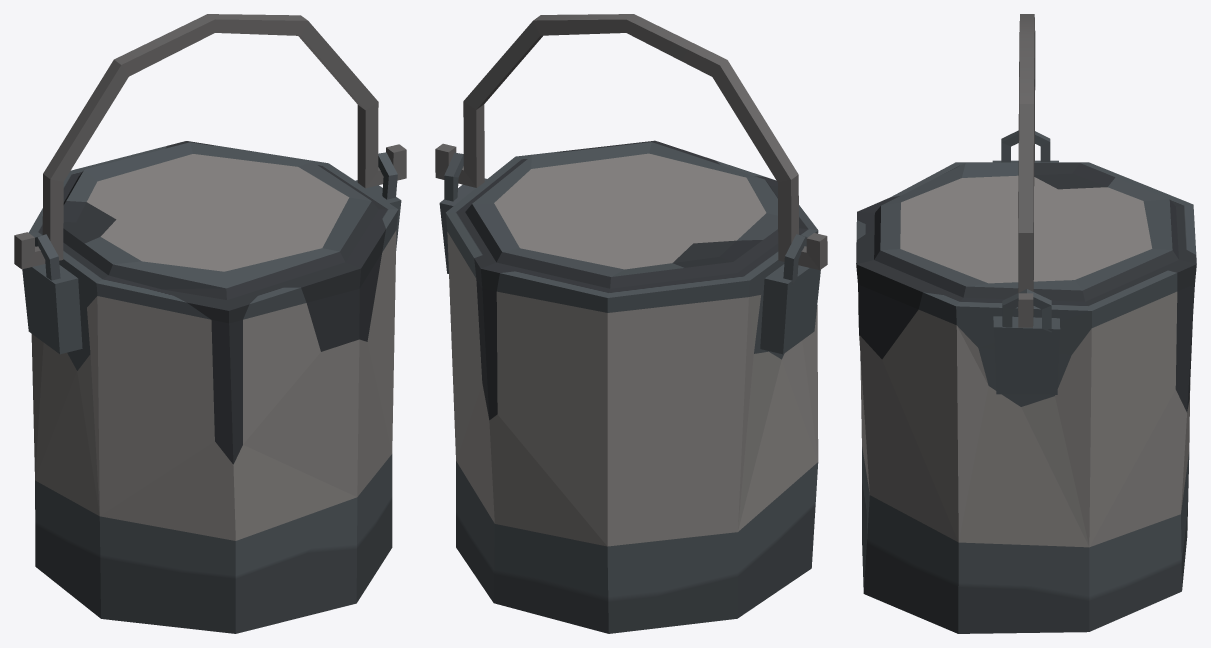
The model's file is SM_Prop_Paint_Can_Closed_Black_01.glb.
3 views of the same model, side by side, from view 1: azimuth 30°, elevation 25°; view 2: azimuth 150°, elevation 25°; view 3: azimuth 270°, elevation 25° (orthographic). The views are drawn at different scales.
Parts seen in each view (by area): view 1: SM_Prop_Paint_Can_Closed_Black_01, SM_Prop_Paint_Can_Closed_Black_01_Handle; view 2: SM_Prop_Paint_Can_Closed_Black_01, SM_Prop_Paint_Can_Closed_Black_01_Handle; view 3: SM_Prop_Paint_Can_Closed_Black_01, SM_Prop_Paint_Can_Closed_Black_01_Handle.
Boxes of the visible parts, bbox=[...] form: SM_Prop_Paint_Can_Closed_Black_01: bbox=[22, 141, 401, 633]; SM_Prop_Paint_Can_Closed_Black_01_Handle: bbox=[14, 14, 406, 269]; SM_Prop_Paint_Can_Closed_Black_01: bbox=[439, 140, 820, 633]; SM_Prop_Paint_Can_Closed_Black_01_Handle: bbox=[435, 14, 827, 270]; SM_Prop_Paint_Can_Closed_Black_01: bbox=[856, 130, 1196, 633]; SM_Prop_Paint_Can_Closed_Black_01_Handle: bbox=[1018, 14, 1035, 327].
Size of the model in its own units: 0.3975 by 0.5342 by 0.3123.
1 material, 1 textured.
